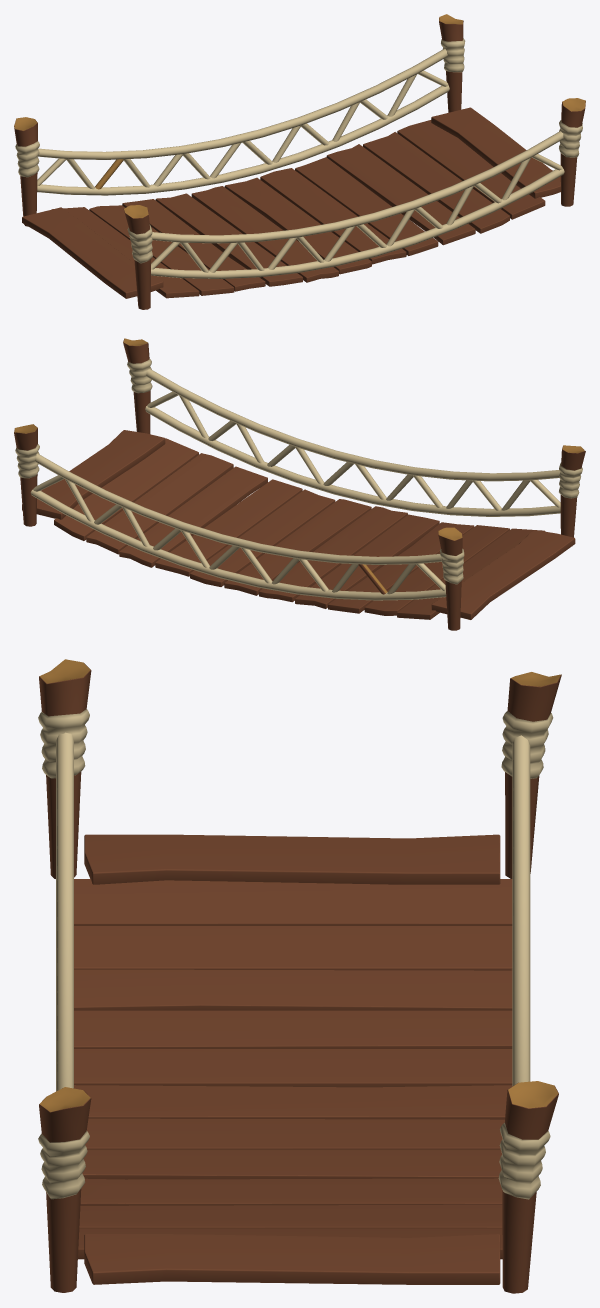
File: SM_bridge_wood.fbx
3 renders of one model, top to bottom at view 1: azimuth 30°, elevation 25°; view 2: azimuth 150°, elevation 25°; view 3: azimuth 270°, elevation 25°, orthographic. The views are drawn at different scales.
Visible parts, largest first — view 1: pCylinder15; view 2: pCylinder15; view 3: pCylinder15.
Boxes of the visible parts, x1,y1,x2,y2 form: pCylinder15: [14, 14, 585, 309]; pCylinder15: [14, 338, 585, 630]; pCylinder15: [38, 659, 561, 1293].
Bounding box in the file's own units: 1312 × 309 × 645.
